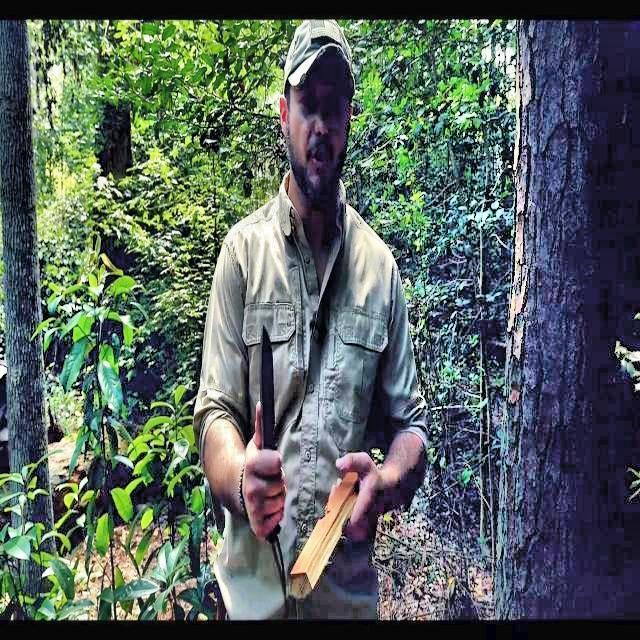knife: (261, 326, 281, 546)
